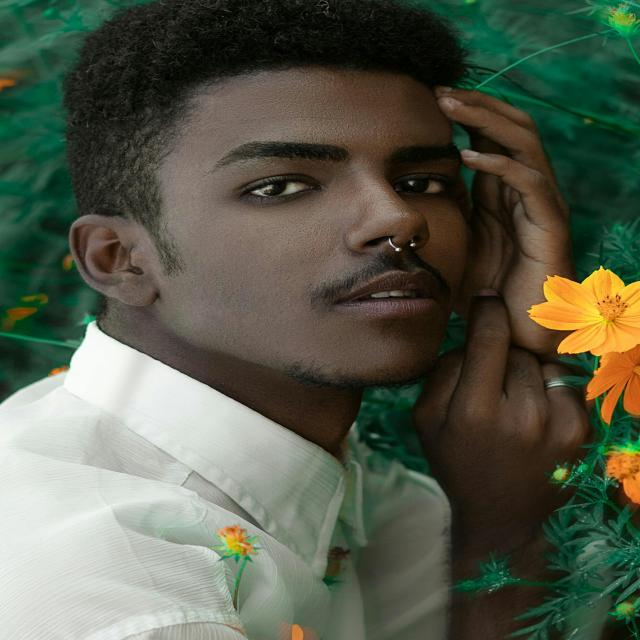front: (142, 93, 470, 355)
